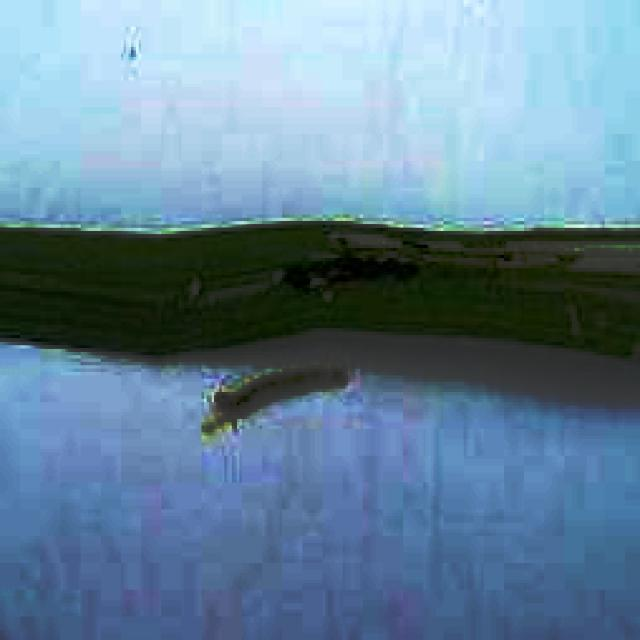leaf-folder: (189, 344, 362, 443)
